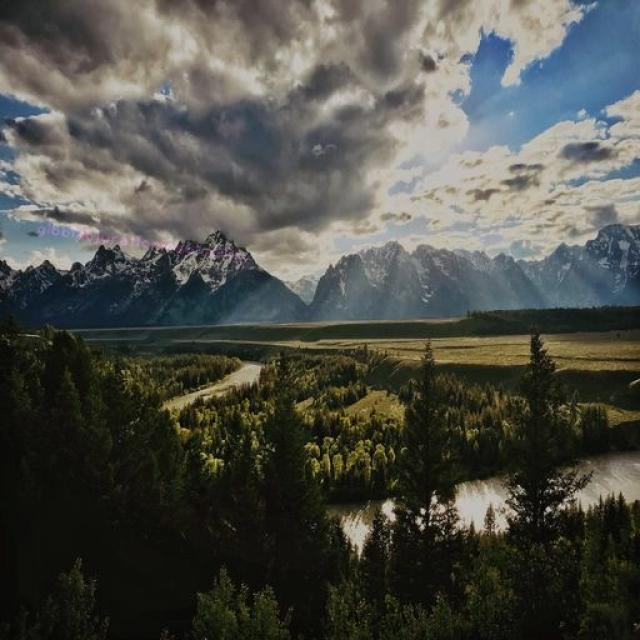watermark: (31, 220, 260, 265)
